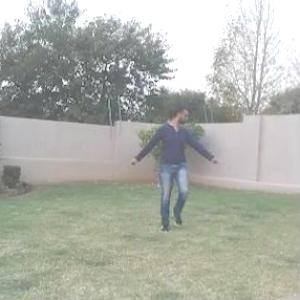land: (128, 88, 235, 235)
